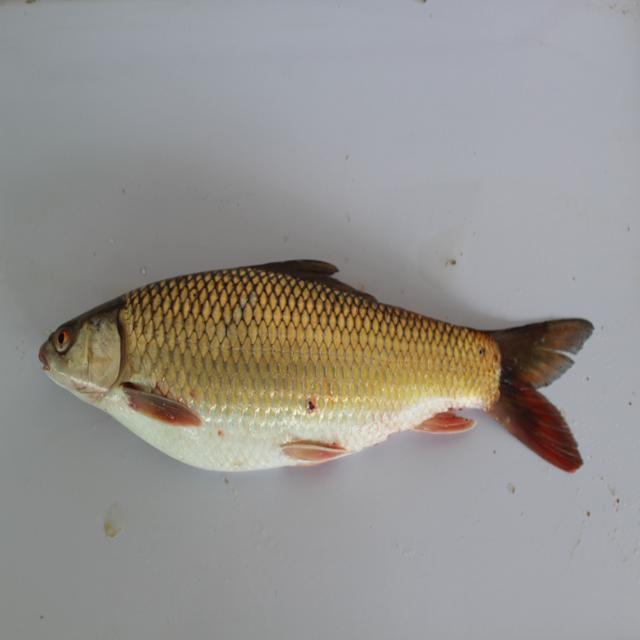Mori: (30, 257, 608, 489)
